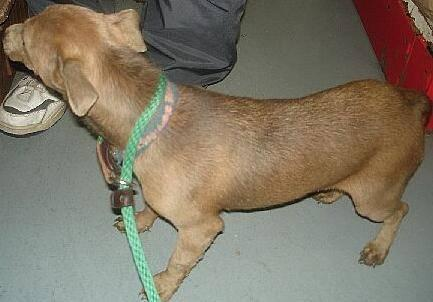dog: (135, 79, 431, 299), (4, 5, 161, 149)
